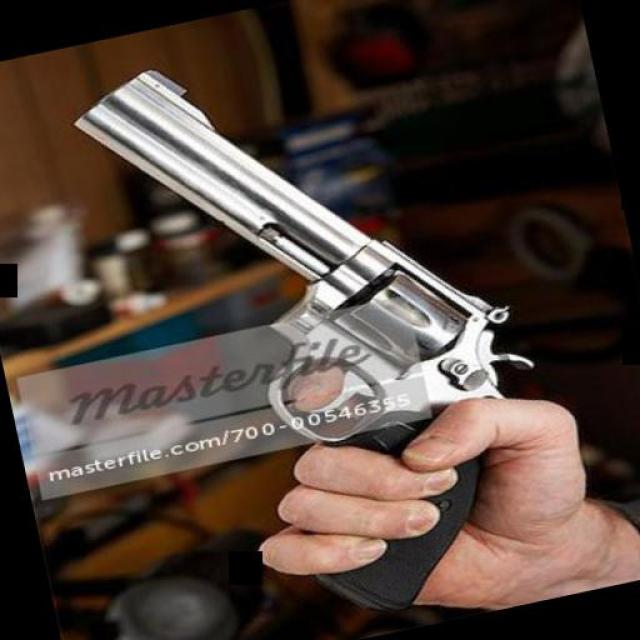gun: (52, 9, 542, 640)
